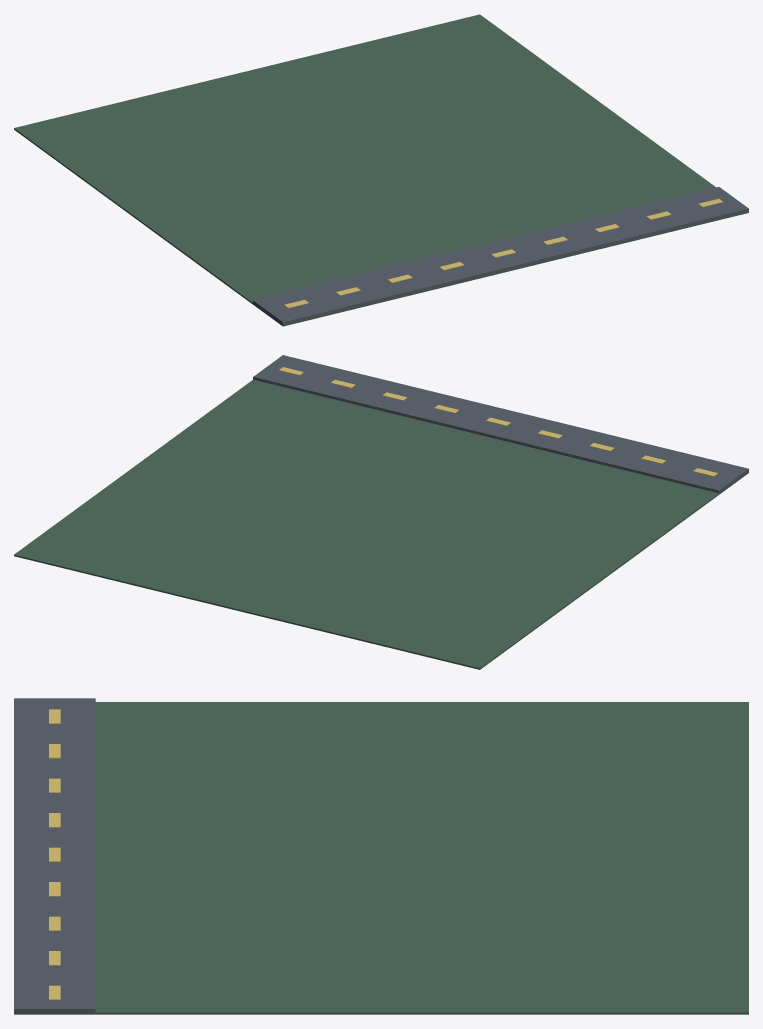
The model's file is stage_00.glb.
3 views of the same model, one above another, from view 1: azimuth 30°, elevation 25°; view 2: azimuth 150°, elevation 25°; view 3: azimuth 270°, elevation 25° (orthographic). The views are drawn at different scales.
Parts seen in each view (by area): view 1: geometry_0; view 2: geometry_0; view 3: geometry_0.
Boxes of the visible parts, x1,y1,x2,y2 form: geometry_0: [14, 14, 748, 326]; geometry_0: [14, 355, 748, 669]; geometry_0: [14, 698, 748, 1014].
Bounding box in the file's own units: 9 × 0.091 × 9.
